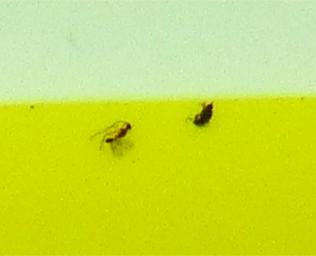Brachycera: (187, 100, 216, 130)
Hymenoptera: (100, 119, 134, 156)
